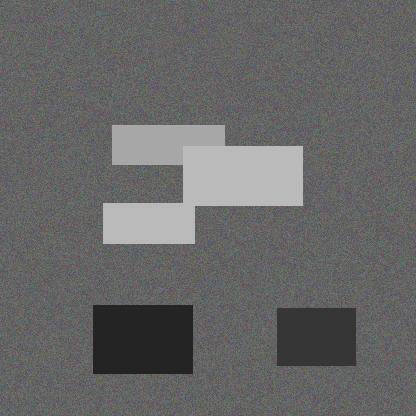empty: (263, 209, 342, 259), (206, 93, 257, 165), (282, 182, 329, 260)
